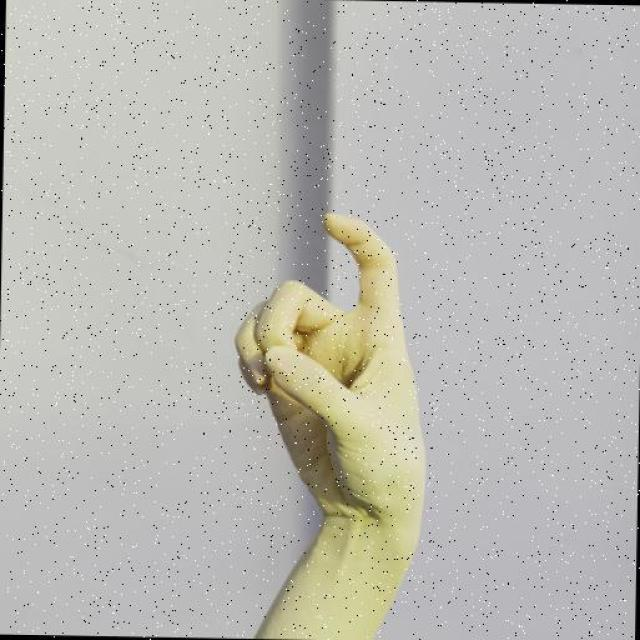X: (224, 198, 433, 562)
